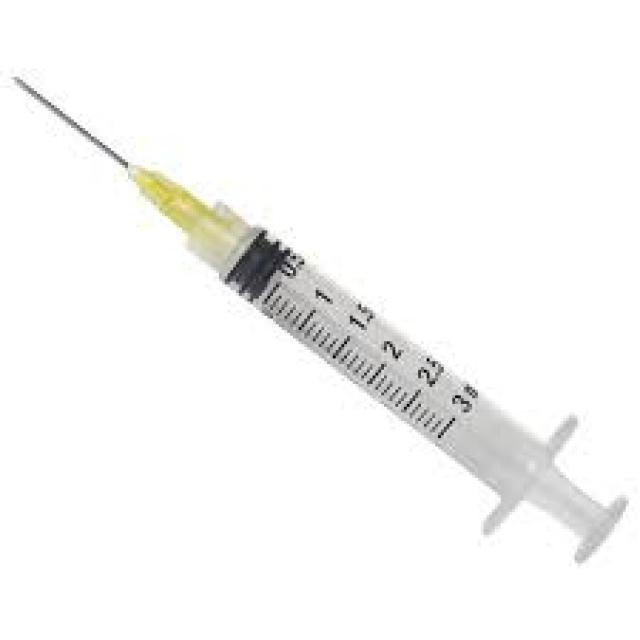syringe: (11, 53, 640, 598)
